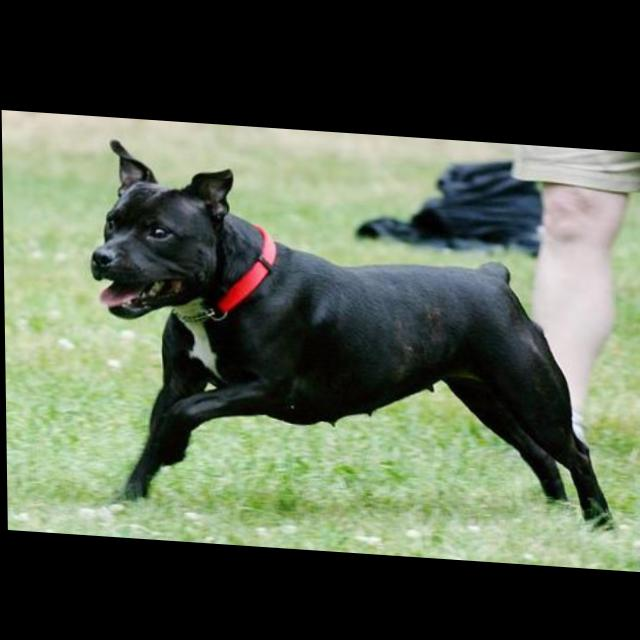staffford: (89, 137, 616, 529)
